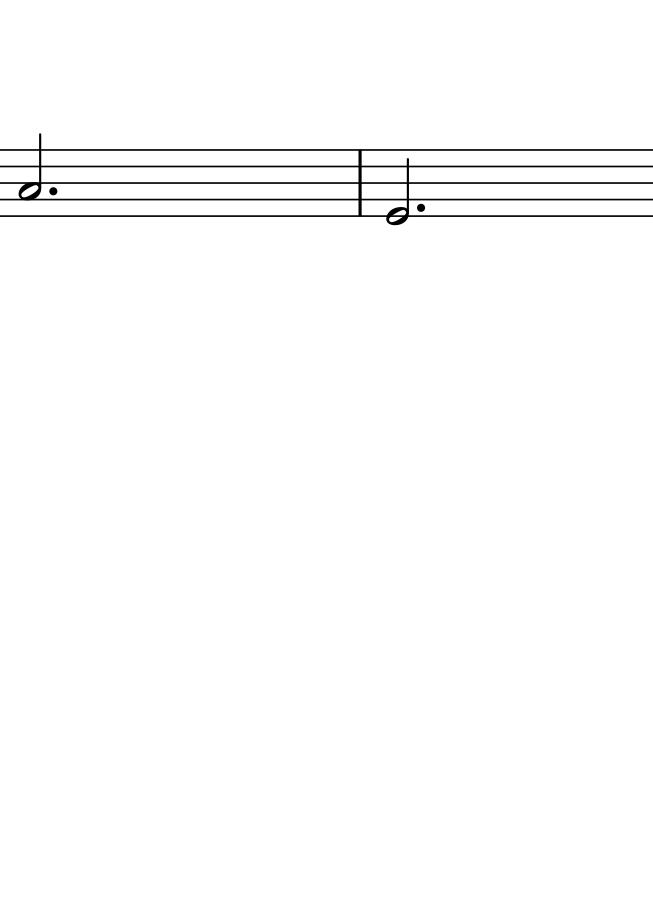2_0: (385, 148, 411, 226)
2_3: (19, 131, 43, 218)
Single_barline: (353, 150, 368, 216)
dot: (46, 184, 59, 197), (414, 201, 426, 213)
